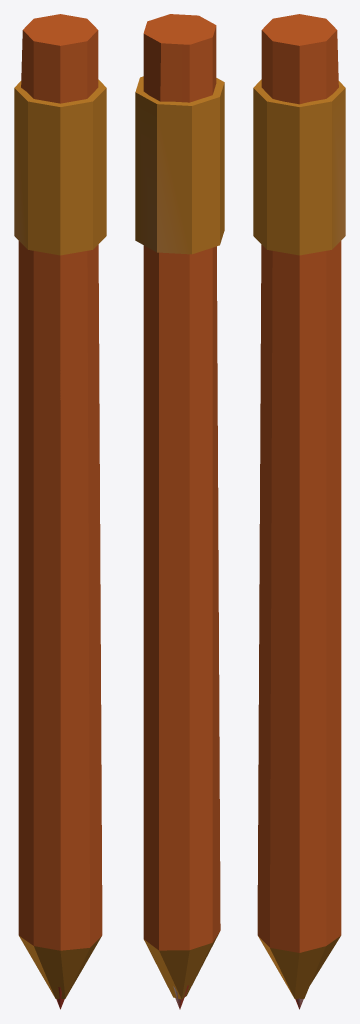
Rendered from PencilModel.fbx.
3 renders of one model, left to right at view 1: azimuth 90°, elevation 25°; view 2: azimuth 150°, elevation 25°; view 3: azimuth 270°, elevation 25°, orthographic.
Visible parts, largest first — view 1: Lapis_Novo; view 2: Lapis_Novo; view 3: Lapis_Novo.
Boxes of the visible parts, x1=… form: Lapis_Novo: x1=14, y1=14, x2=106, y2=1009; Lapis_Novo: x1=135, y1=14, x2=224, y2=1009; Lapis_Novo: x1=253, y1=14, x2=345, y2=1009.
Bounding box in the file's own units: 0.11 × 1.29 × 0.11.
